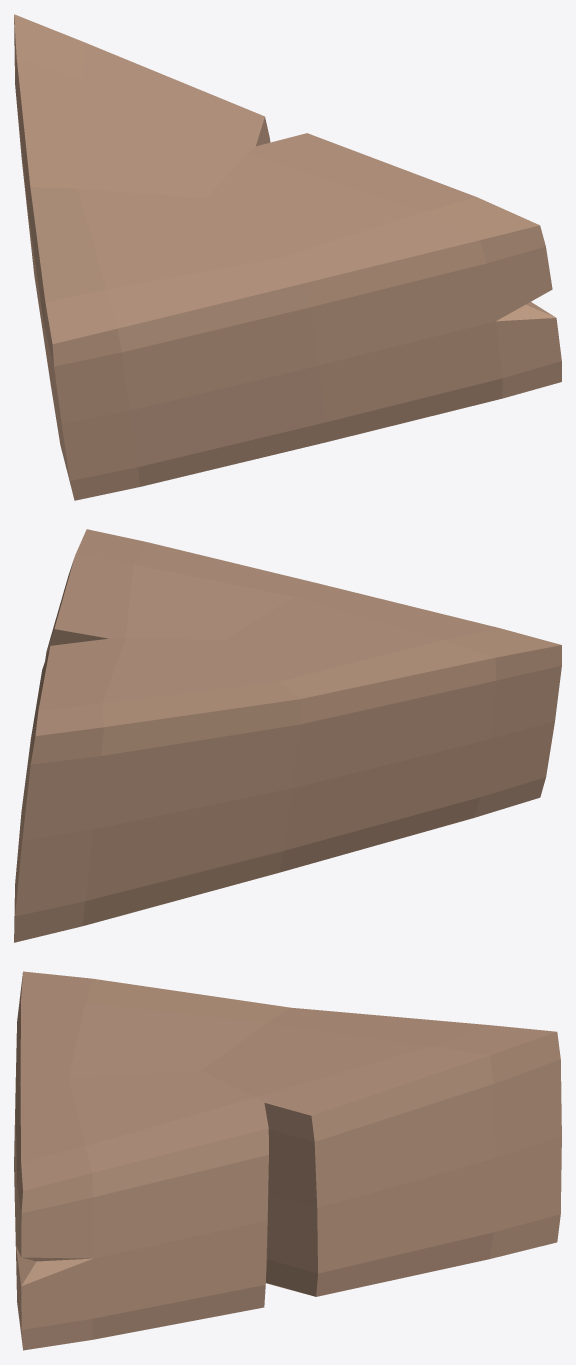
File: Triangle_1.fbx
3 renders of one model, top to bottom at view 1: azimuth 30°, elevation 25°; view 2: azimuth 150°, elevation 25°; view 3: azimuth 270°, elevation 25°, orthographic. The views are drawn at different scales.
Parts seen in each view (by area): view 1: triangle; view 2: triangle; view 3: triangle.
Boxes of the visible parts, bbox=[...] form: triangle: bbox=[14, 14, 561, 500]; triangle: bbox=[14, 529, 561, 942]; triangle: bbox=[14, 971, 561, 1350].
Size of the model in its own units: 1.86 by 0.7853 by 1.88.
